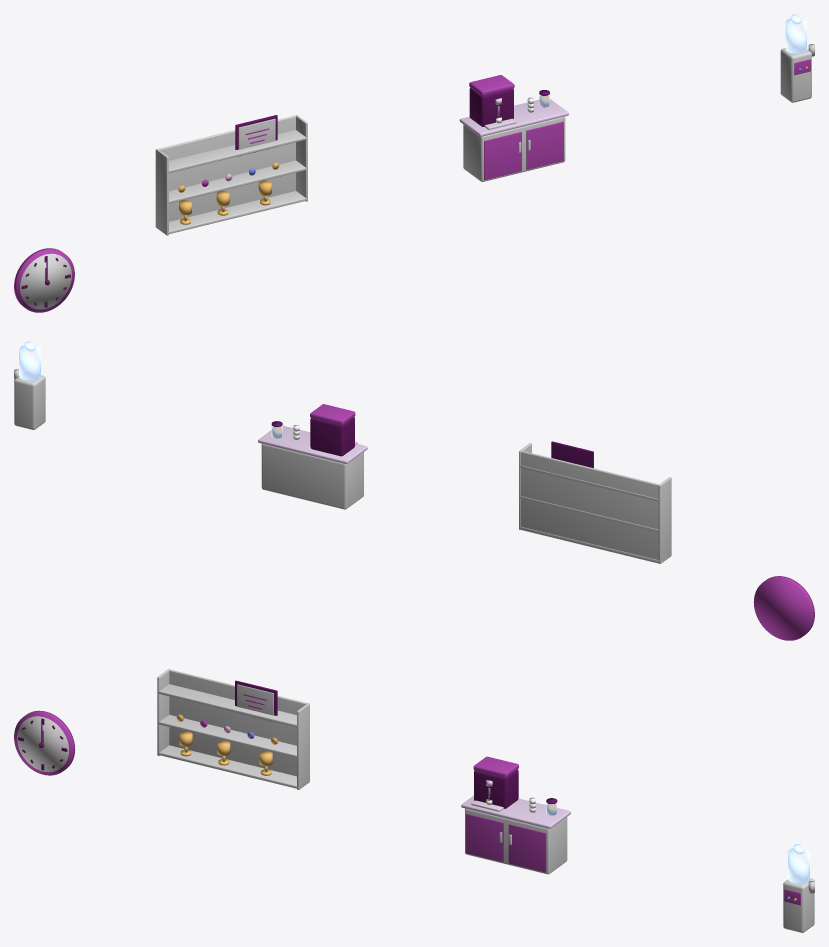
File: mgmt_b.glb
3 views of the same model, one above another, from view 1: azimuth 30°, elevation 25°; view 2: azimuth 150°, elevation 25°; view 3: azimuth 330°, elevation 25° (orthographic).
Parts seen in each view (by area): view 1: Back, ClockFace, Cabinet, Board1, Board0, Door0, Door1, Board2, CoolerBody, Top, Machine, Side (+5 smaller); view 2: Back, Cabinet, ClockRim, CoolerBody, Machine, Top, Side, CertFrame, Bottle, MachineTop; view 3: Back, ClockFace, Cabinet, Board1, Board0, Door1, Door0, Board2, Top, Machine, CoolerBody, Side.001 (+5 smaller).
Boxes of the visible parts, left/top/right/bottom form: Back: left=158, top=115, right=296, bottom=221; ClockFace: left=20, top=253, right=71, bottom=309; Cabinet: left=463, top=116, right=565, bottom=181; Board1: left=167, top=160, right=306, bottom=203; Board0: left=167, top=191, right=306, bottom=233; Door0: left=484, top=132, right=521, bottom=180; Door1: left=526, top=121, right=563, bottom=169; Board2: left=167, top=130, right=306, bottom=172; CoolerBody: left=780, top=48, right=811, bottom=102; Top: left=459, top=99, right=568, bottom=136; Machine: left=469, top=87, right=513, bottom=126; Side: left=155, top=149, right=168, bottom=235; Back: left=521, top=450, right=659, bottom=563; Cabinet: left=261, top=444, right=363, bottom=509; ClockRim: left=753, top=576, right=814, bottom=640; CoolerBody: left=14, top=375, right=45, bottom=429; Machine: left=310, top=417, right=354, bottom=456; Top: left=258, top=425, right=367, bottom=464; Side: left=658, top=477, right=671, bottom=563; CertFrame: left=551, top=441, right=593, bottom=468; Bottle: left=19, top=345, right=40, bottom=380; MachineTop: left=310, top=404, right=355, bottom=425; Back: left=169, top=669, right=307, bottom=776; ClockFace: left=17, top=716, right=68, bottom=772; Cabinet: left=465, top=808, right=567, bottom=874; Board1: left=158, top=714, right=297, bottom=757; Board0: left=158, top=745, right=297, bottom=788; Door1: left=508, top=824, right=546, bottom=872; Door0: left=466, top=813, right=503, bottom=862; Board2: left=158, top=684, right=297, bottom=727; Top: left=461, top=795, right=570, bottom=828; Machine: left=474, top=769, right=518, bottom=808; CoolerBody: left=783, top=878, right=814, bottom=932; Side.001: left=297, top=703, right=309, bottom=789.
Size of the model in its own units: 16.98 by 2.84 by 0.785.
